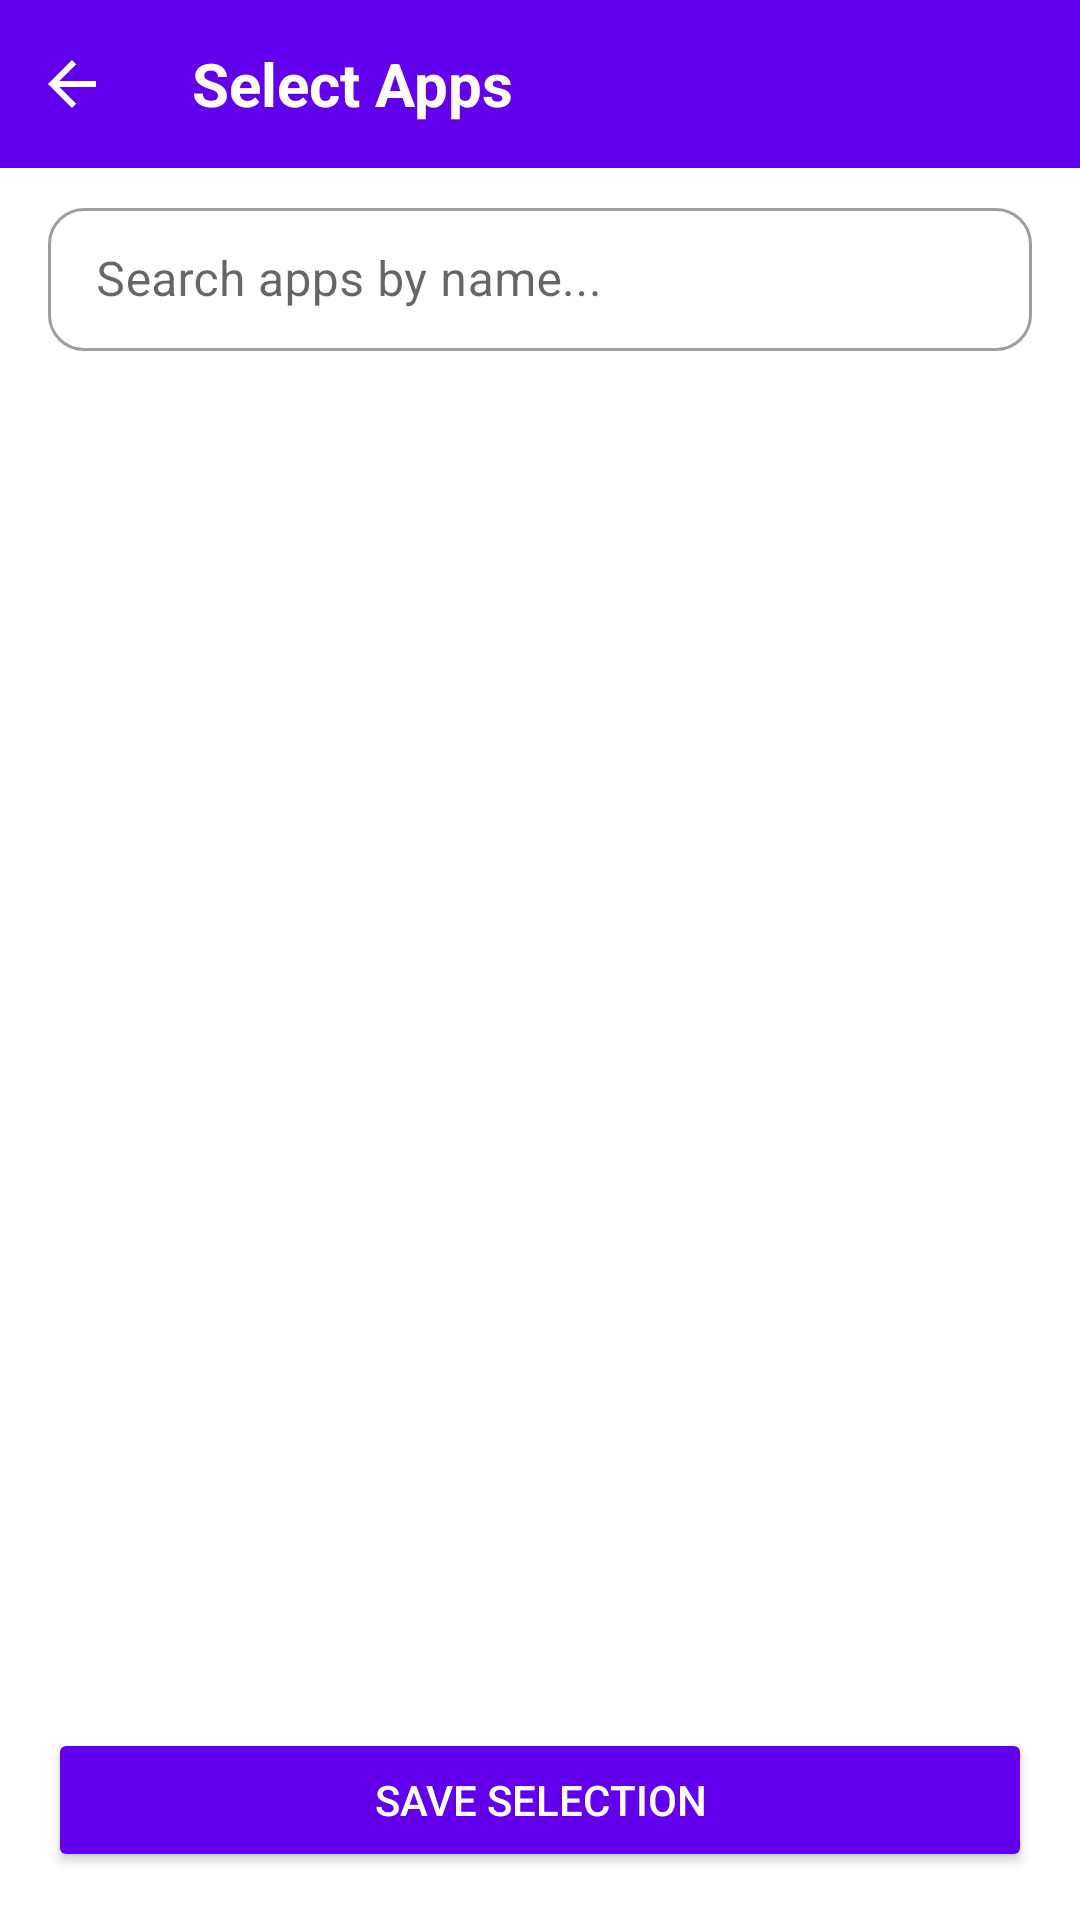

Where icons sit on this 1080 × 1920 app screen, as region(x1, y1, x2, y2):
arrow back: region(48, 60, 96, 108)
